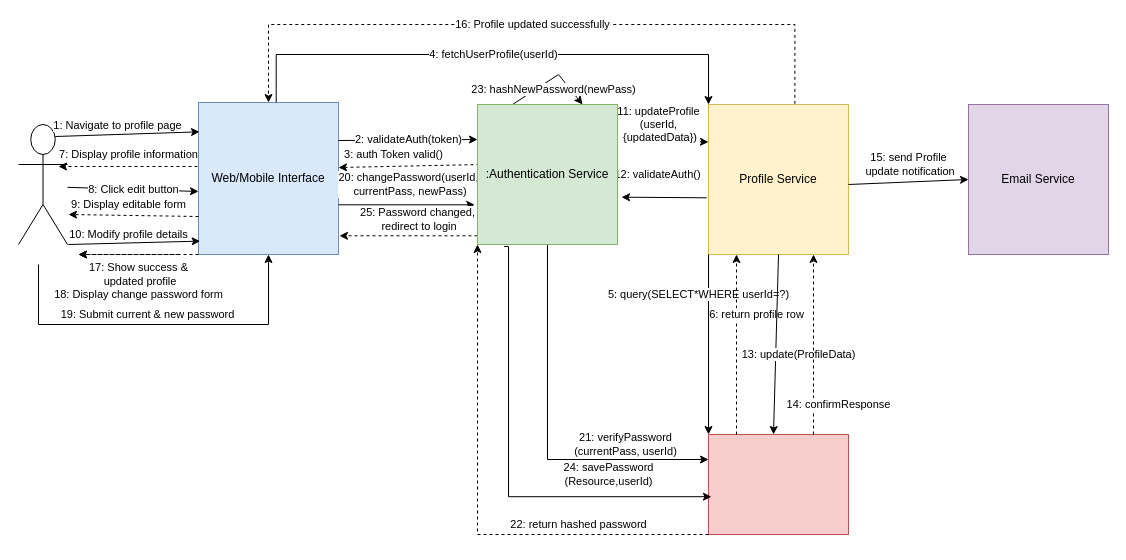
This 1126x560 diagram has some shape labels left out. Here are the shapes that lost their labels. From the top down, the centre of each, then its label:
At point (43, 184): "Customer".
At point (778, 484): "Database".
